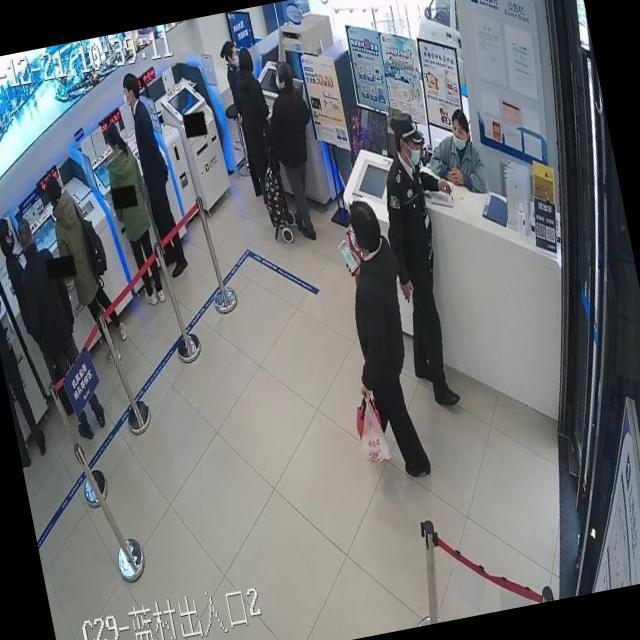person: (366, 106, 492, 414), (326, 195, 438, 486), (10, 210, 109, 446), (44, 168, 130, 364), (118, 66, 191, 282), (256, 59, 335, 246), (98, 118, 169, 310), (0, 212, 66, 417), (0, 257, 50, 464), (226, 45, 286, 210), (0, 265, 47, 460), (418, 105, 491, 203), (220, 40, 250, 108)
